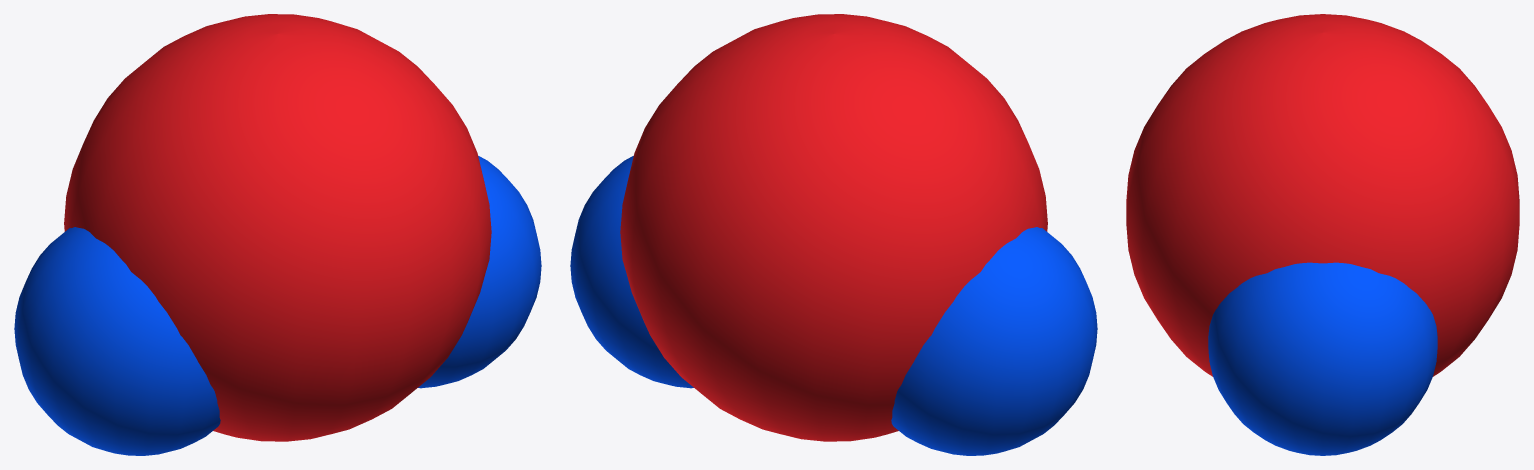
3 views of the same model, side by side, from view 1: azimuth 30°, elevation 25°; view 2: azimuth 150°, elevation 25°; view 3: azimuth 270°, elevation 25° (orthographic). The views are drawn at different scales.
Visible parts, largest first — view 1: Сферы_Node (×3); view 2: Сферы_Node (×3); view 3: Сферы_Node (×2).
Part boxes in pixels (x1,y1,x2,y2): Сферы_Node (×3): (14, 14, 541, 455); Сферы_Node (×3): (570, 14, 1097, 455); Сферы_Node (×2): (1126, 14, 1519, 455).
Size of the model in its own units: 3.2 by 2.4 by 2.38.
Materials: 2 (2 with a texture image).
